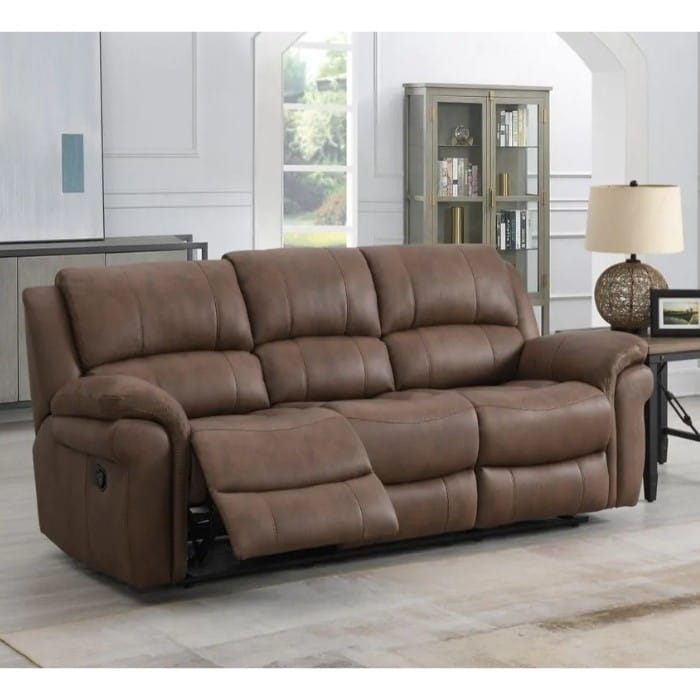3seatersofa: (24, 246, 652, 587)
backrest: (57, 246, 519, 416)
leftarmrest: (509, 268, 645, 397)
leg: (35, 416, 184, 586), (612, 364, 652, 505)
rightarmrest: (25, 287, 189, 463)
seat: (195, 382, 611, 556)
